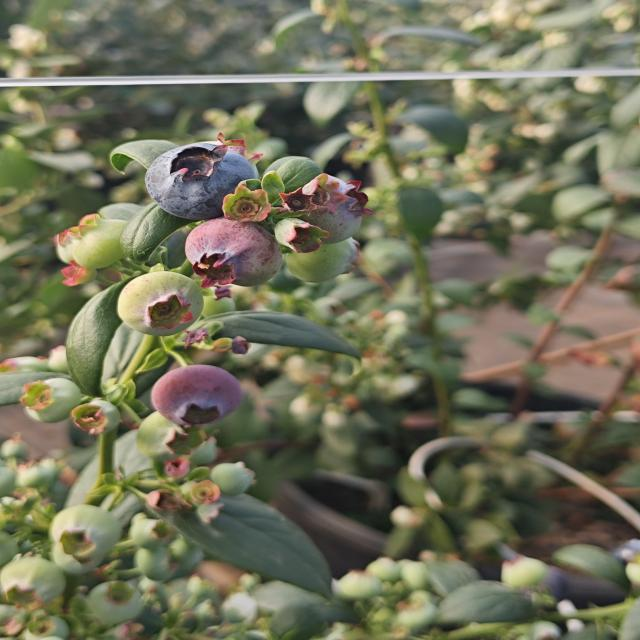ripe: (142, 140, 260, 222)
